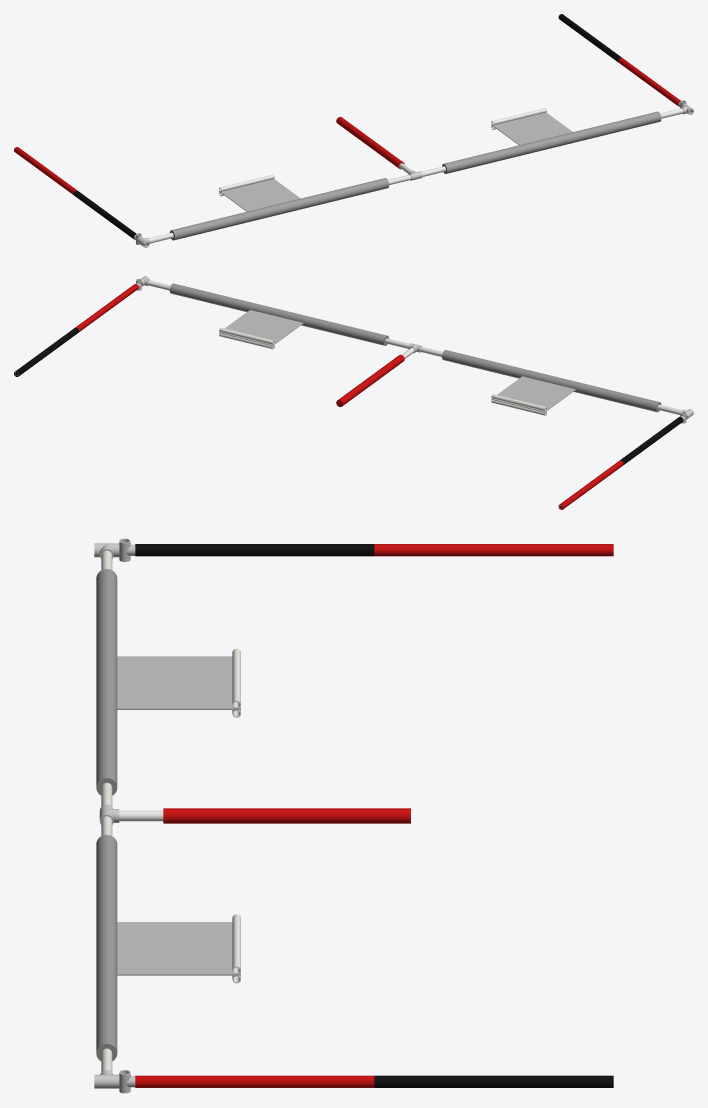
Rendered from Task01_Gate_SearchRescueLeft.obj.
3 renders of one model, top to bottom at view 1: azimuth 30°, elevation 25°; view 2: azimuth 150°, elevation 25°; view 3: azimuth 270°, elevation 25°, orthographic. The views are drawn at different scales.
Parts seen in each view (by area): view 1: top_bar, sign_left, sign_right, leg_left, leg_right, divider; view 2: top_bar, sign_left, sign_right, leg_left, leg_right, divider; view 3: top_bar, sign_left, sign_right, leg_left, leg_right, divider.
Part boxes in pixels (x1,y1,x2,y2): top_bar: (137, 104, 693, 247); sign_left: (219, 174, 300, 211); sign_right: (491, 108, 572, 145); leg_left: (14, 147, 141, 244); leg_right: (558, 14, 686, 108); divider: (336, 117, 412, 174); top_bar: (141, 276, 693, 419); sign_left: (491, 376, 575, 415); sign_right: (219, 310, 303, 349); leg_left: (558, 411, 686, 509); leg_right: (14, 279, 141, 376); divider: (336, 347, 414, 406); top_bar: (94, 543, 119, 1088); sign_left: (117, 648, 240, 717); sign_right: (117, 914, 240, 983); leg_left: (119, 538, 613, 561); leg_right: (119, 1070, 613, 1093); divider: (119, 808, 410, 823).
Size of the model in its own units: 3.13 by 0.052 by 1.28.
